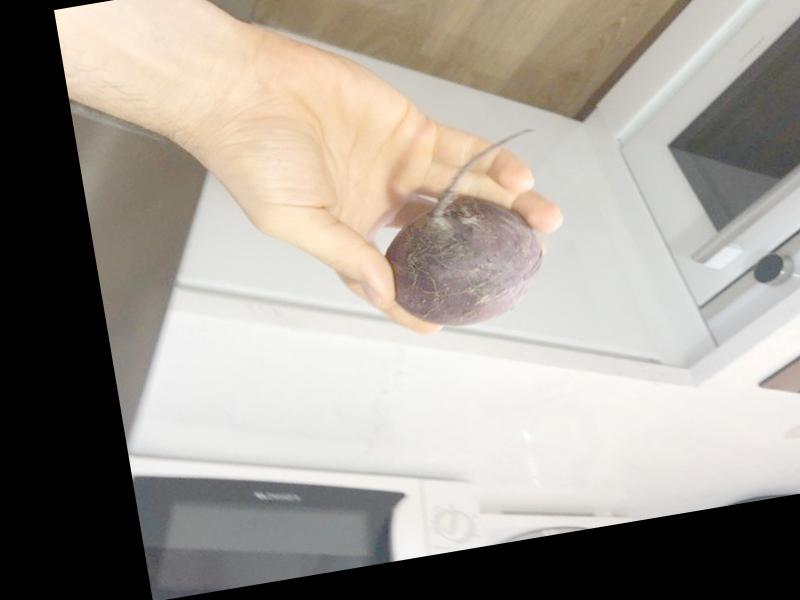Beet: (368, 126, 567, 336)
